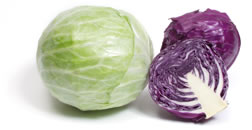cabbage: (36, 6, 154, 112), (147, 37, 230, 122), (158, 8, 240, 73)
